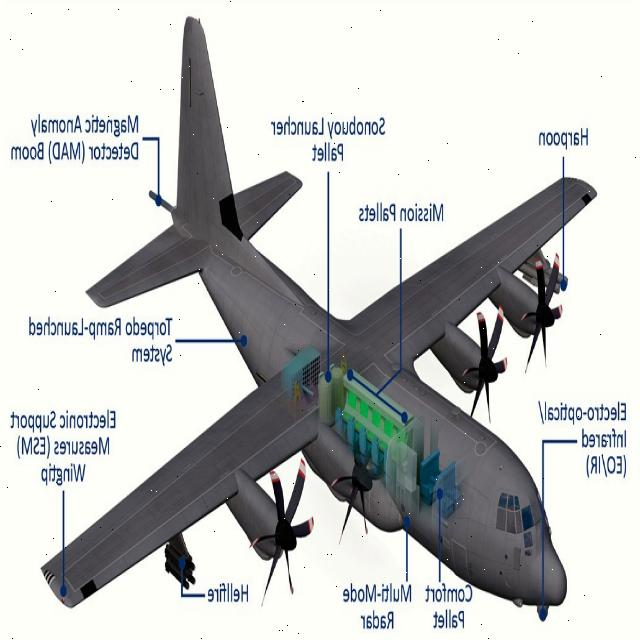C130: (3, 2, 625, 630)
